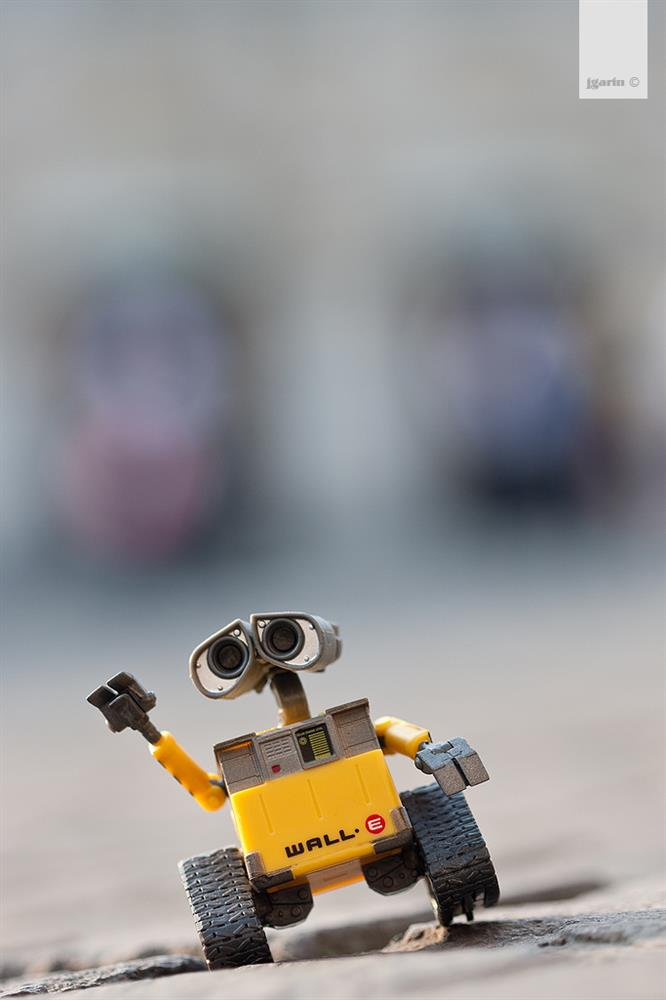walle: (85, 610, 504, 975)
